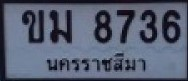txt02: (20, 8, 45, 44)
txt28: (48, 8, 73, 45)
